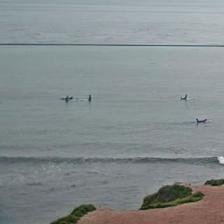surfer: (196, 118, 207, 123), (61, 96, 72, 100), (181, 94, 188, 100), (88, 94, 92, 102)
